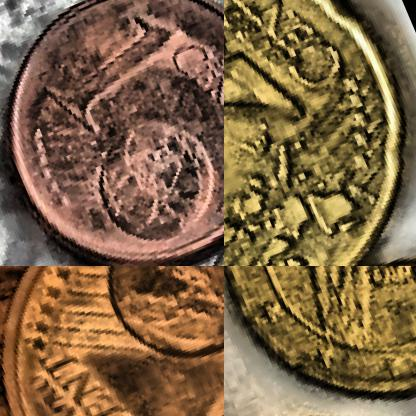coin: (0, 0, 223, 265), (224, 0, 415, 265), (0, 266, 223, 415), (224, 266, 415, 415)
